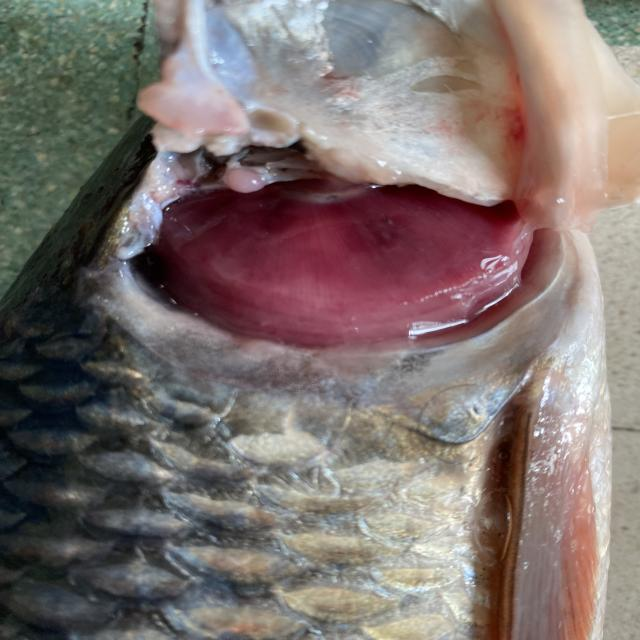Fresh: (53, 127, 627, 410)
